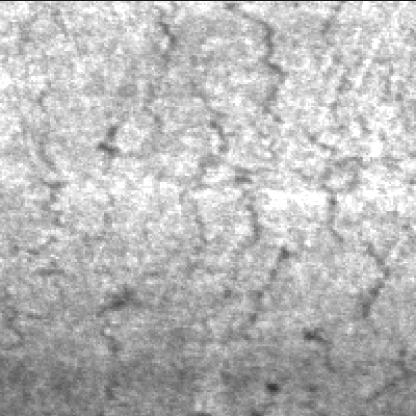crazing: (145, 0, 294, 326), (302, 22, 416, 401), (33, 64, 131, 304), (94, 268, 200, 398)
